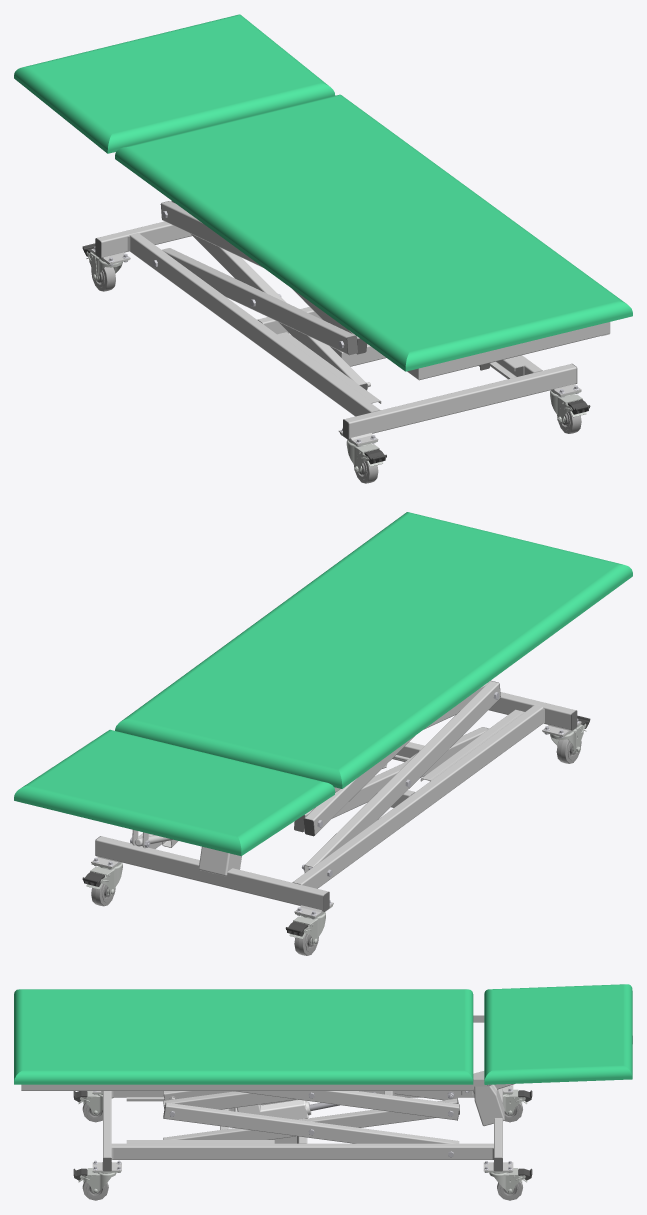
Rendered from CAMILLA_REGULABLE_EN_ALTURA.glb.
3 renders of one model, top to bottom at view 1: azimuth 30°, elevation 25°; view 2: azimuth 150°, elevation 25°; view 3: azimuth 270°, elevation 25°, orthographic. The views are drawn at different scales.
Visible parts, largest first — view 1: CAMILLA_REGULABLE_EN_ALTURA; view 2: CAMILLA_REGULABLE_EN_ALTURA; view 3: CAMILLA_REGULABLE_EN_ALTURA.
Boxes of the visible parts, x1,y1,x2,y2 form: CAMILLA_REGULABLE_EN_ALTURA: [14, 14, 632, 483]; CAMILLA_REGULABLE_EN_ALTURA: [14, 512, 632, 955]; CAMILLA_REGULABLE_EN_ALTURA: [14, 984, 632, 1200].
Size of the model in its own units: 0.704 by 0.5026 by 2.09.
